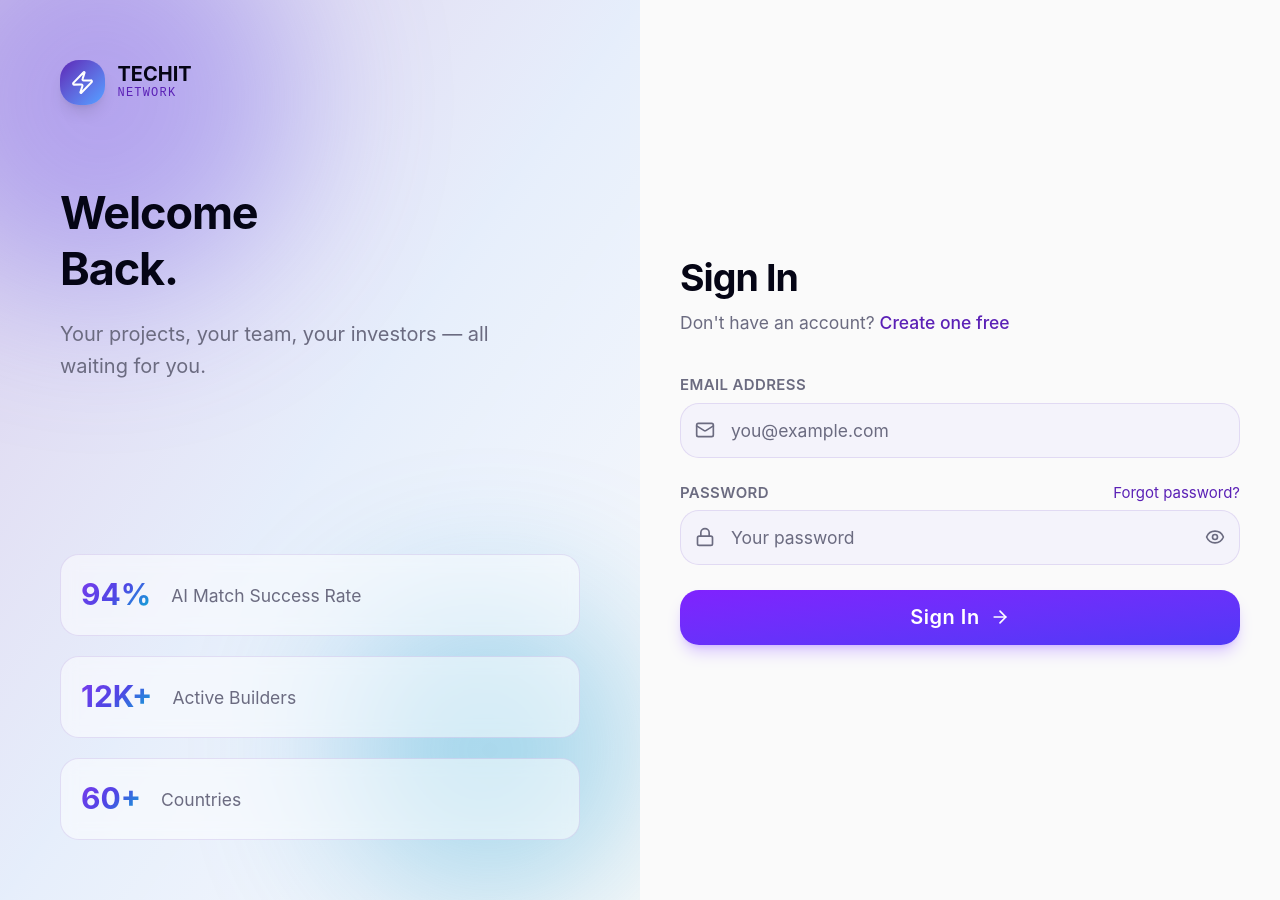
Test: Login page › shows an error message when signIn returns an error
The width and height of the screenshot is (1280, 900).
Type "bad@example.com" into the field with placeholder "you@example.com" at (960, 430), box x1=680 y1=402 x2=1240 y2=458
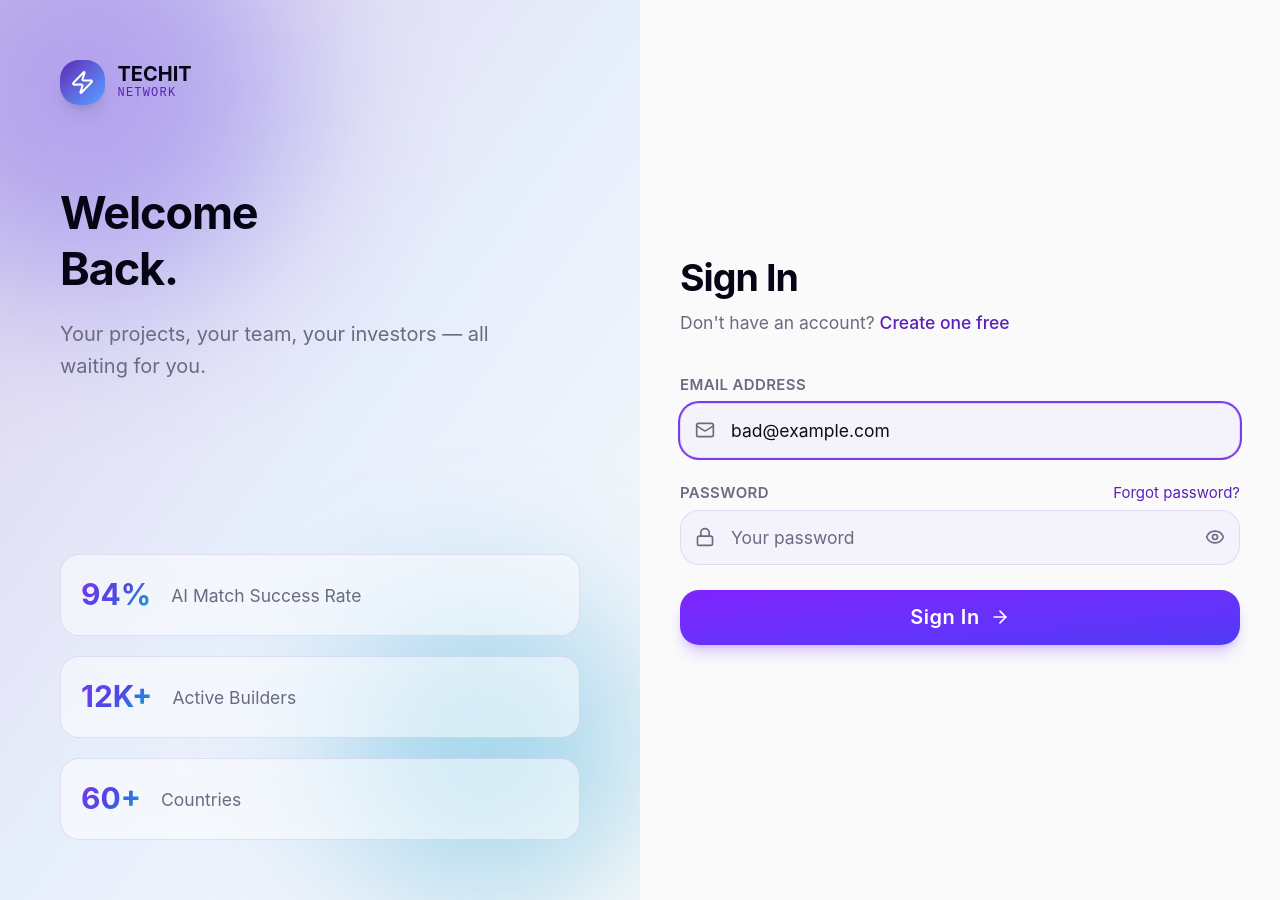
Type "WrongPass" into the password field with placeholder "Your password" at (960, 538), box x1=680 y1=510 x2=1240 y2=565
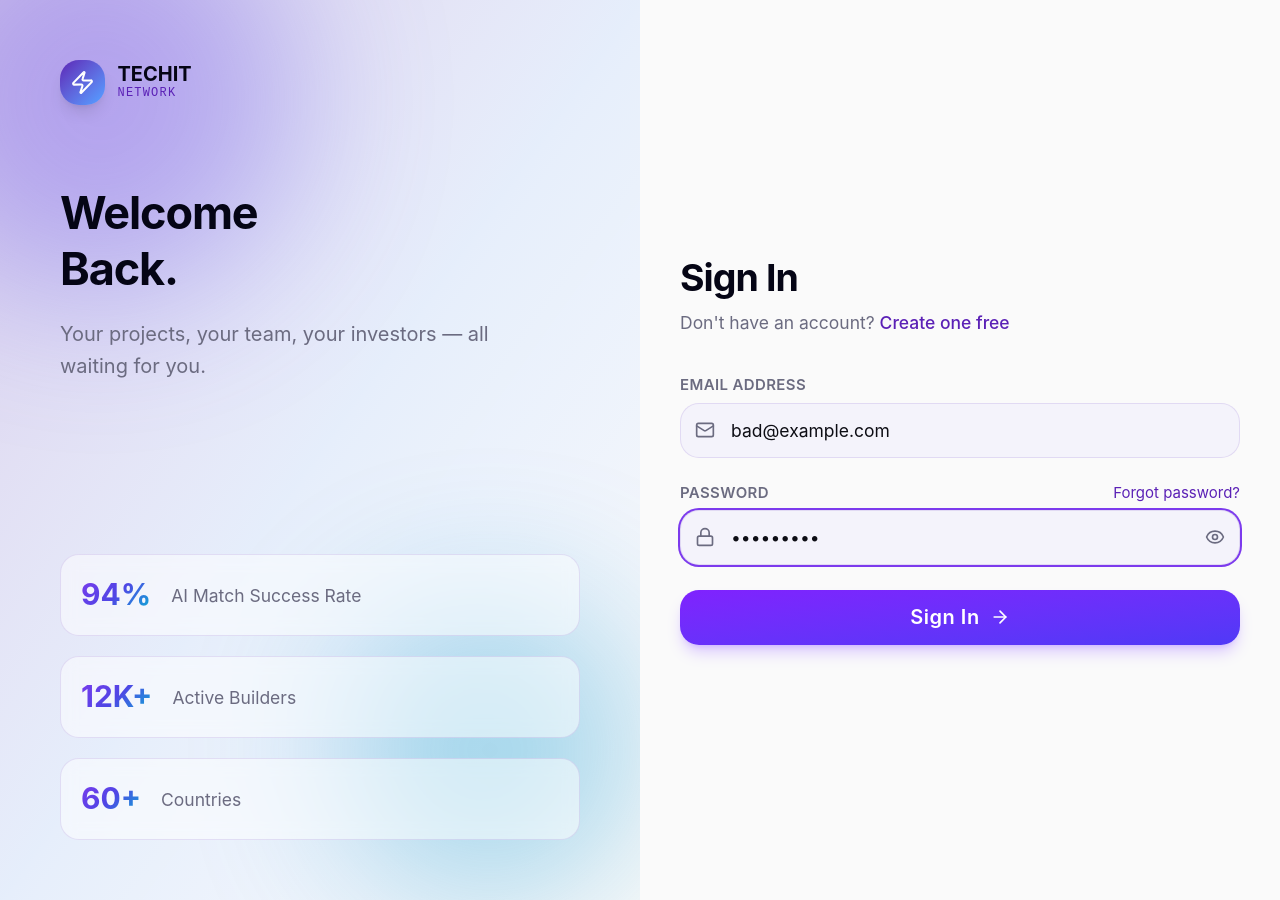
Click the button "Sign In" at (960, 618), box x1=680 y1=590 x2=1240 y2=645
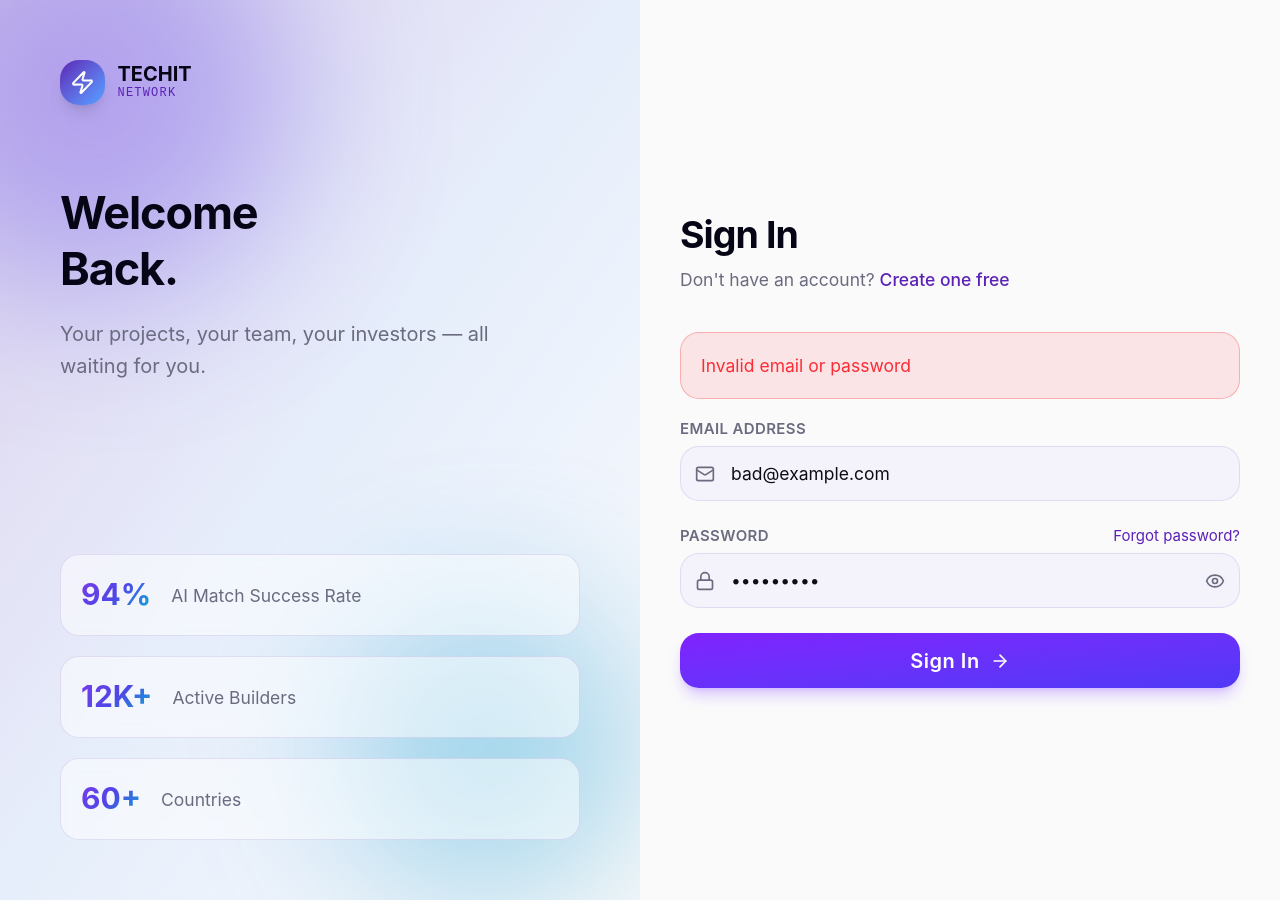
Check: the text "Invalid email or password" is shown, box x1=680 y1=332 x2=1240 y2=398
